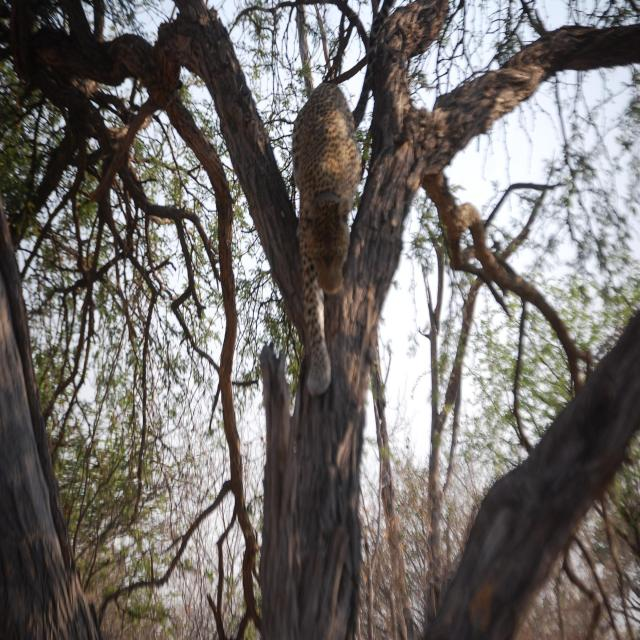Leopard: (288, 44, 367, 422)
